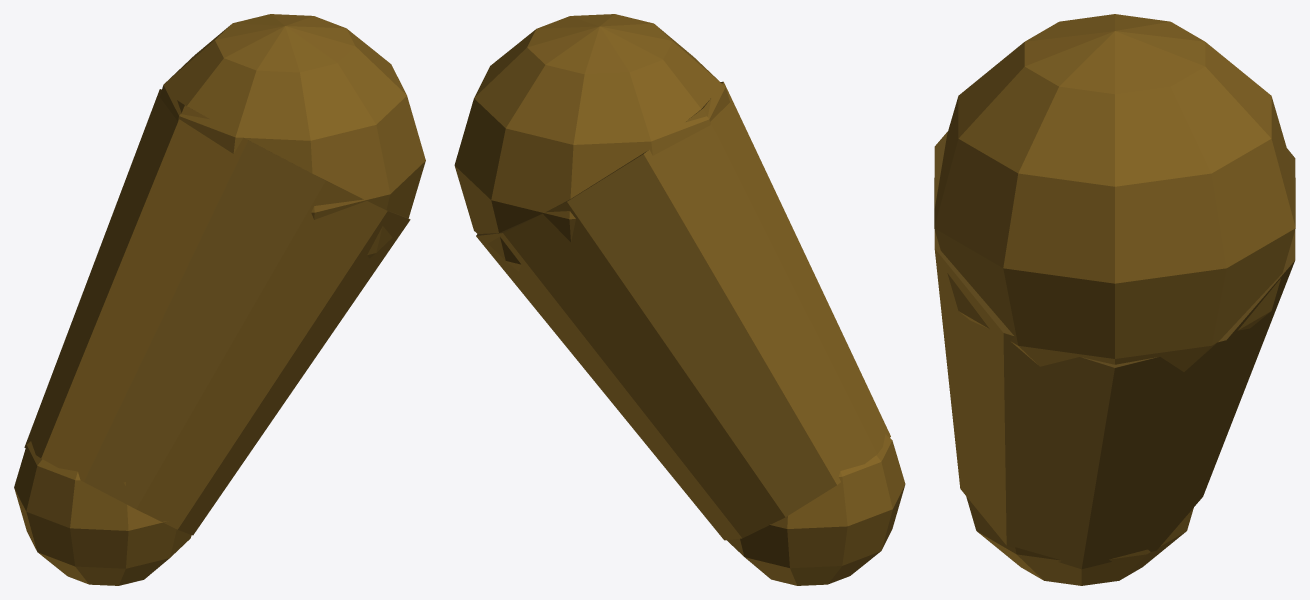
Rendered from SM_triceratops_fore_r_Upper.fbx.
The picture shows the model from 3 angles, left to right: view 1: azimuth 30°, elevation 25°; view 2: azimuth 150°, elevation 25°; view 3: azimuth 270°, elevation 25°; orthographic projection. The views are drawn at different scales.
Parts seen in each view (by area): view 1: SM_triceratops_fore_r_Upper export; view 2: SM_triceratops_fore_r_Upper export; view 3: SM_triceratops_fore_r_Upper export.
Part boxes in pixels (<box>): SM_triceratops_fore_r_Upper export: <box>14,14,425,585</box>; SM_triceratops_fore_r_Upper export: <box>454,14,905,585</box>; SM_triceratops_fore_r_Upper export: <box>934,14,1295,585</box>.
Size of the model in its own units: 167 by 98.91 by 201.
